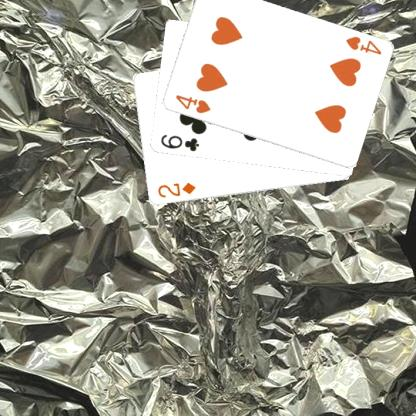2D: (154, 180, 197, 199)
4H: (172, 92, 212, 115), (342, 34, 382, 57)
6C: (157, 132, 200, 153)
